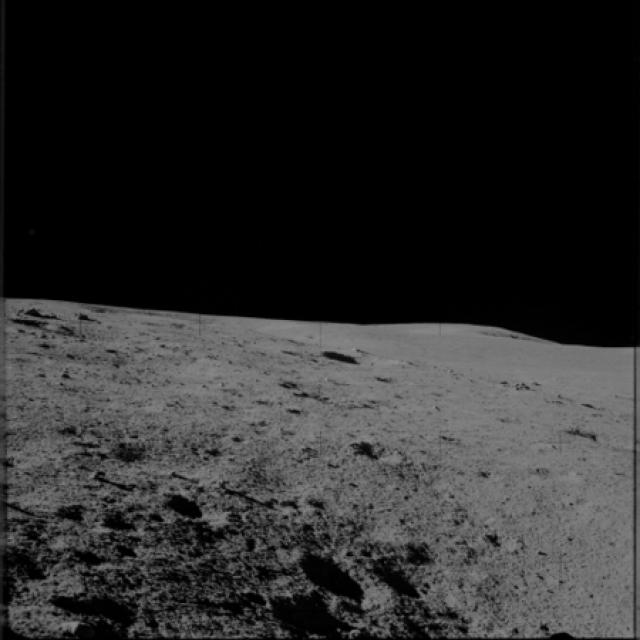crater: (286, 543, 368, 608), (270, 586, 352, 639), (314, 343, 423, 380), (108, 436, 202, 473), (359, 552, 418, 606), (560, 418, 638, 457), (229, 457, 308, 492), (338, 433, 402, 470), (165, 488, 218, 526), (477, 524, 518, 555), (102, 503, 130, 542)
